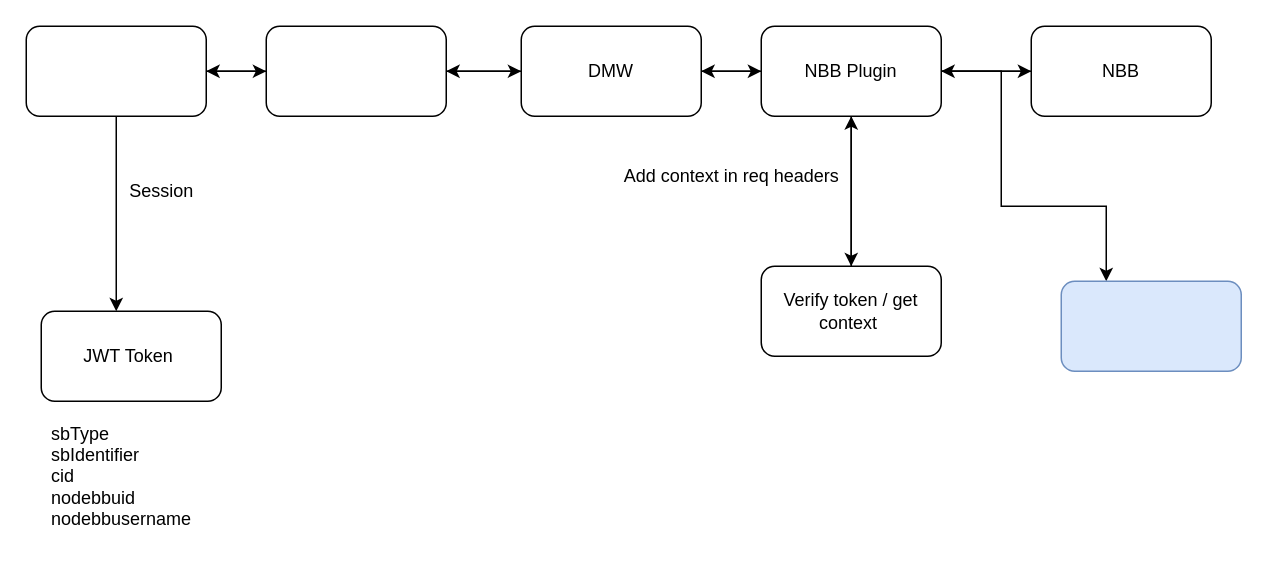
Image size: 1268x563. Some labels were removed from this diagram. The shapes that lost their labels are listed below. From the top down, each one's centre as x and y in pixels, then its label:
(x=115, y=70): Portal
(x=355, y=70): DF Lib
(x=1150, y=325): Notification service
